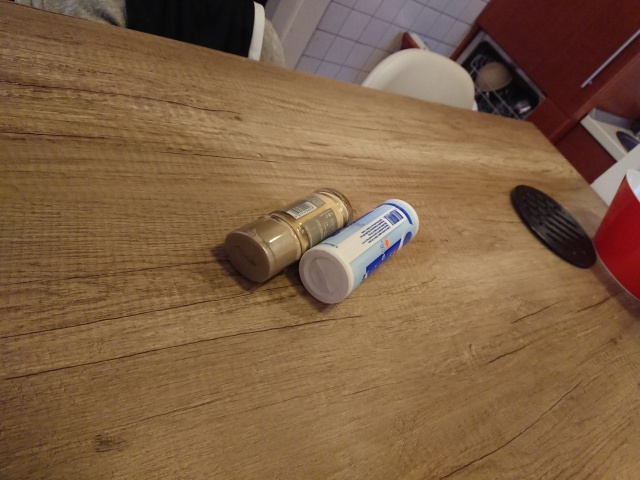Kotanyi Garlic Granules 70g: (220, 185, 356, 286)
Solana Pag Fine Sea Salt 250g: (296, 196, 422, 307)
